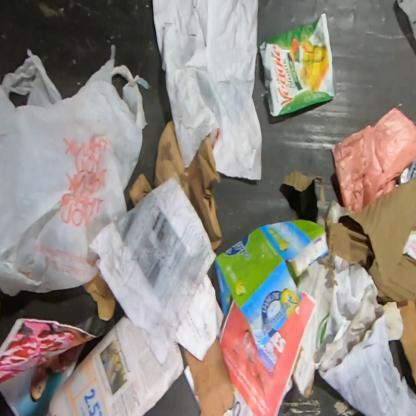cardboard: (282, 169, 415, 303), (215, 220, 328, 353), (129, 118, 222, 249), (183, 337, 235, 415), (397, 301, 415, 383)
soft_plastic: (0, 45, 150, 298), (331, 106, 415, 213), (259, 12, 337, 118)
